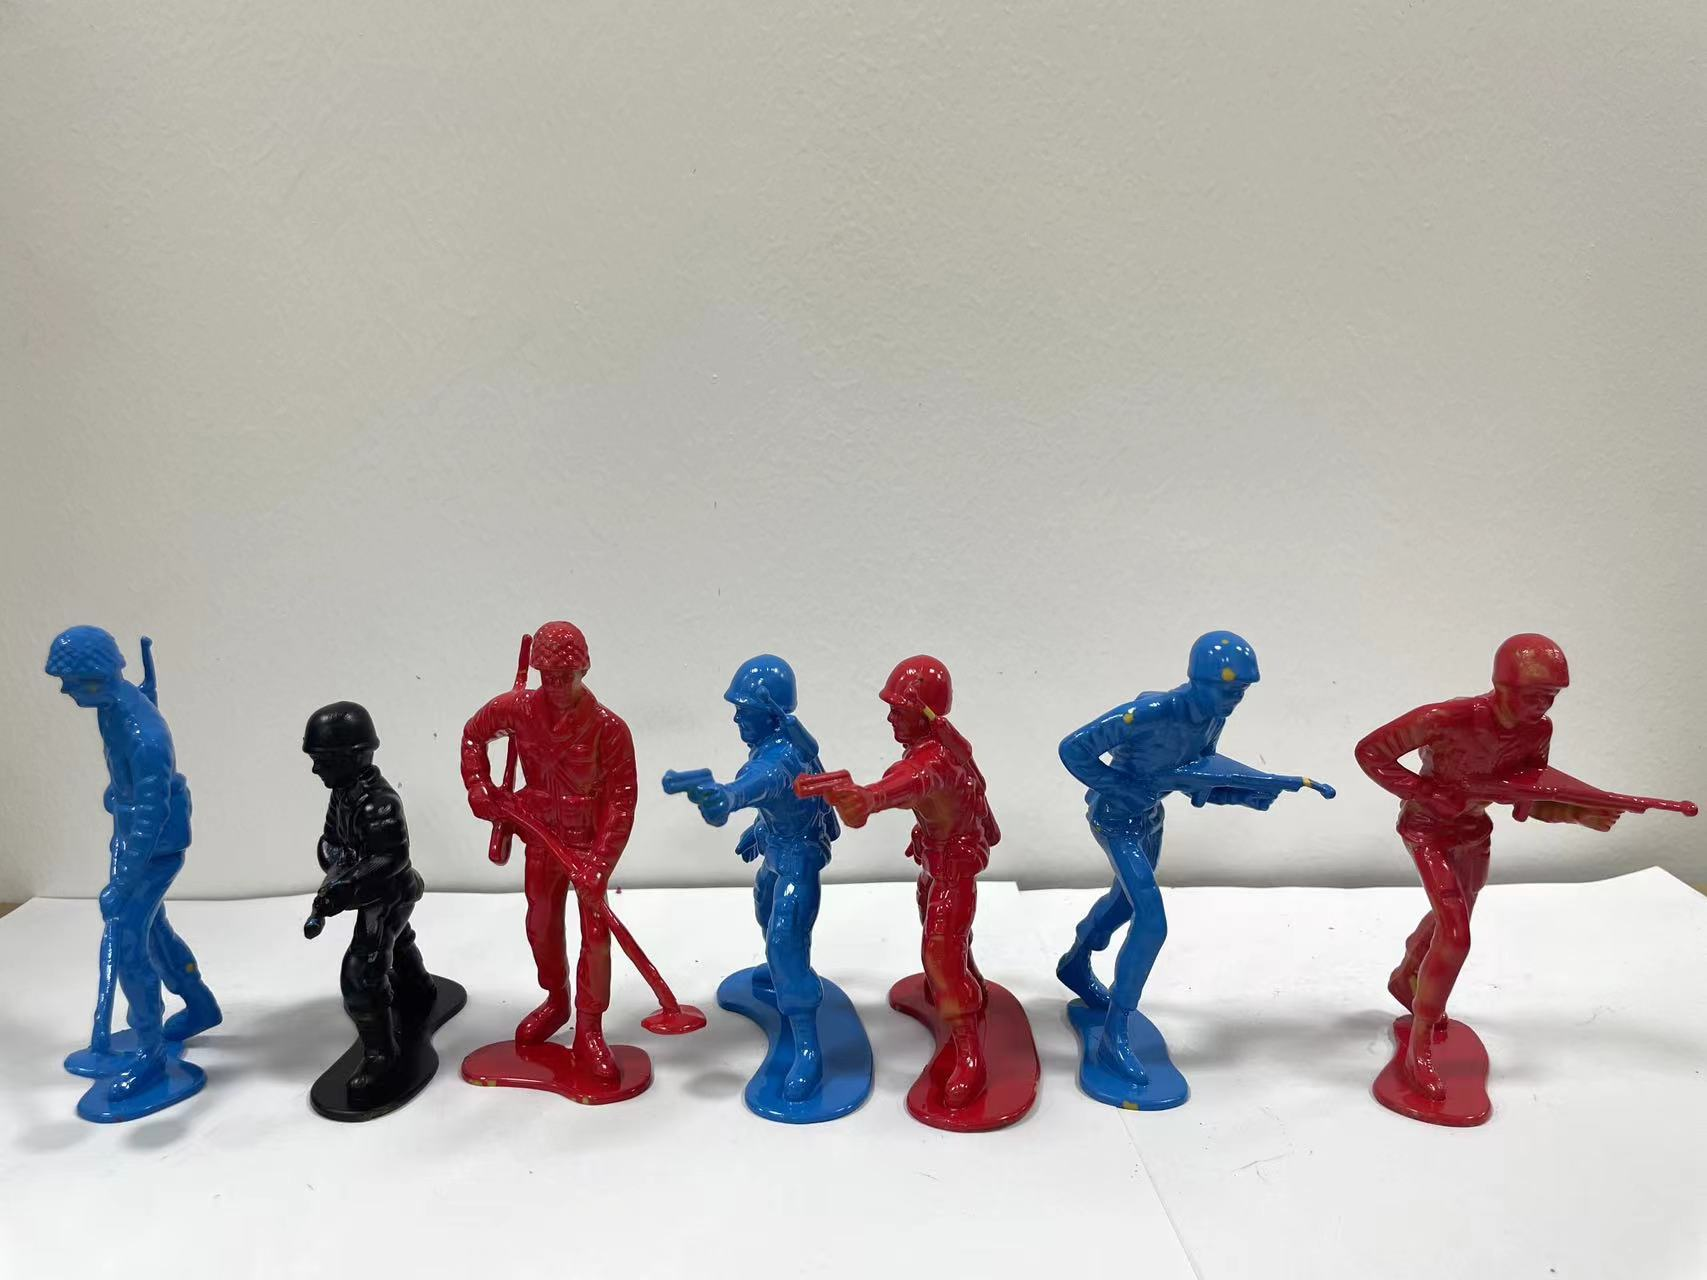black: (259, 670, 466, 1146)
blue: (1059, 602, 1341, 1155), (22, 585, 241, 1128), (664, 648, 874, 1167)
red: (1337, 592, 1685, 1140), (462, 585, 688, 1133), (812, 629, 1048, 1124)
